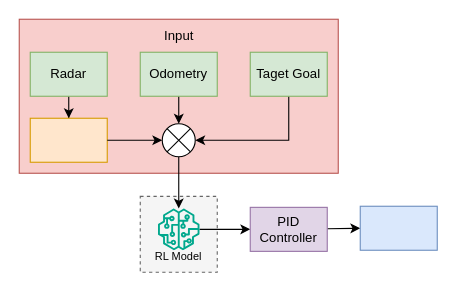
Some shapes in this 457 by 292 pixel diagram are drawn without their labels. Each missing label, with the centre of its shape:
"Cmd Vel (Output)" goes at (x=398, y=227).
"Radar2Scan" goes at (x=68, y=139).
